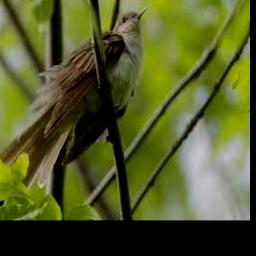Cuckoo: (0, 6, 148, 188)
